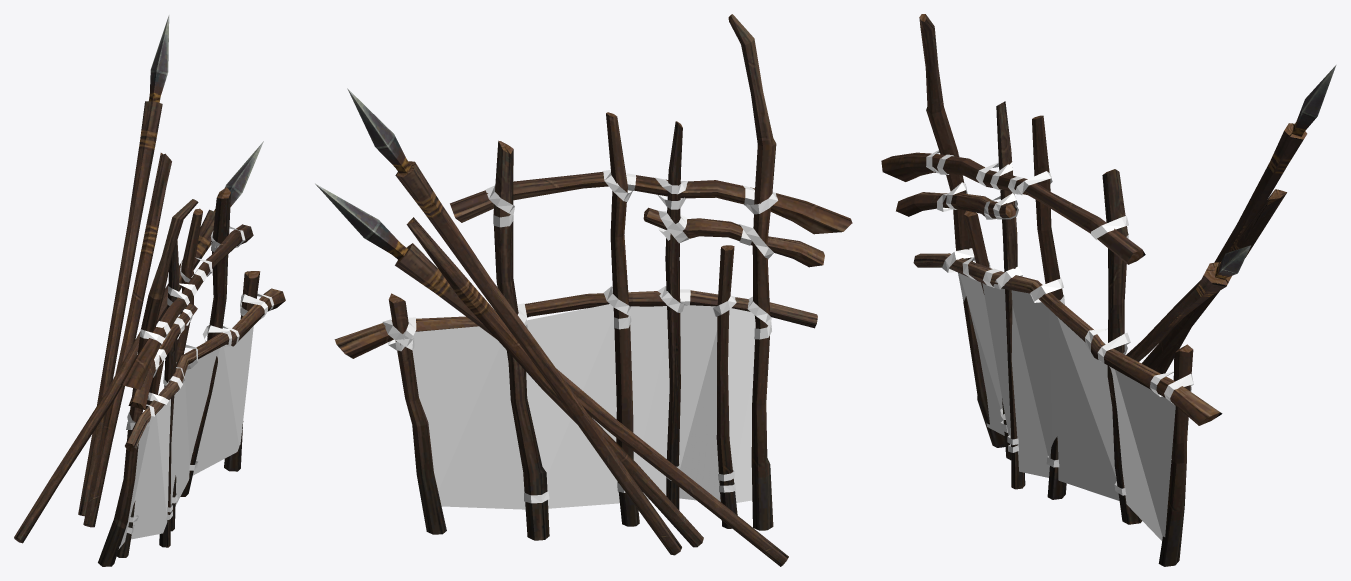
Rendered from 4007_Item_wuqi_3.FBX.
3 renders of one model, left to right at view 1: azimuth 30°, elevation 25°; view 2: azimuth 150°, elevation 25°; view 3: azimuth 270°, elevation 25°, orthographic. The views are drawn at different scales.
Visible parts, largest first — view 1: 4007_Item_wuqi_3; view 2: 4007_Item_wuqi_3; view 3: 4007_Item_wuqi_3.
Boxes of the visible parts, bbox=[...] form: 4007_Item_wuqi_3: bbox=[14, 15, 285, 566]; 4007_Item_wuqi_3: bbox=[315, 14, 852, 566]; 4007_Item_wuqi_3: bbox=[881, 14, 1336, 566].
Bounding box in the file's own units: 23918 × 29343 × 24077.
